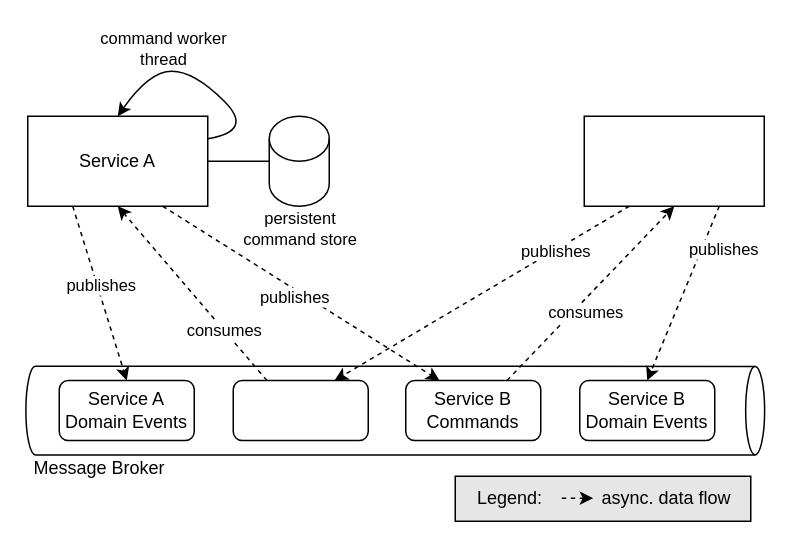
The diagram is 792 pixels wide and 548 high, and some of its shapes have lost their labels. The box of each missing label's shape, as (x1, y1, x2, y2) in pixels:
Service A Replies: (232, 379, 368, 441)
Service B: (583, 115, 764, 206)
